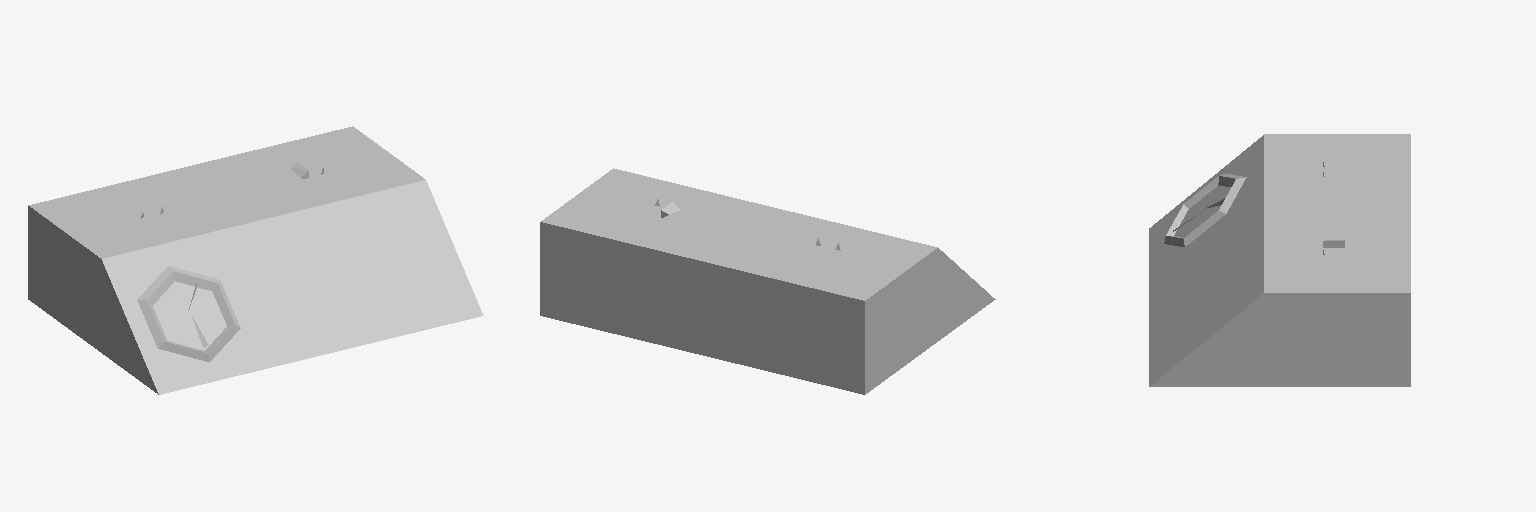
Rendered from interfaceWall.obj.
3 views of the same model, side by side, from view 1: azimuth 30°, elevation 25°; view 2: azimuth 150°, elevation 25°; view 3: azimuth 270°, elevation 25° (orthographic).
Parts seen in each view (by area): view 1: Object.1; view 2: Object.1; view 3: Object.1.
Boxes of the visible parts, <box> form: Object.1: <box>28,126,483,394</box>; Object.1: <box>540,168,995,394</box>; Object.1: <box>1149,134,1410,386</box>.
Bounding box in the file's own units: 70.54 × 21.46 × 49.15.